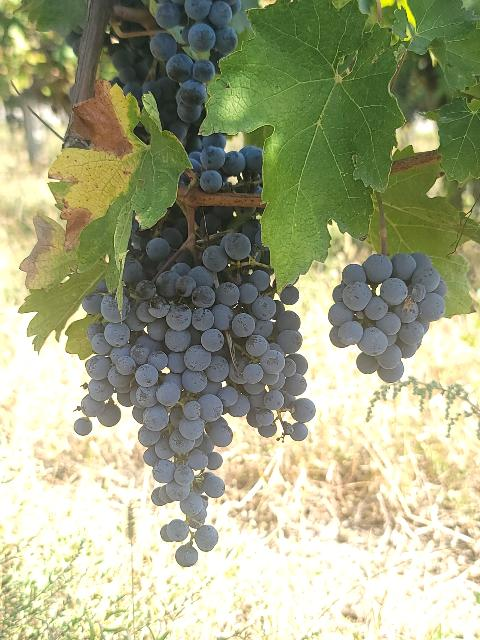grapes: (130, 264, 239, 550), (202, 239, 315, 440), (329, 254, 445, 381), (81, 294, 136, 426)
